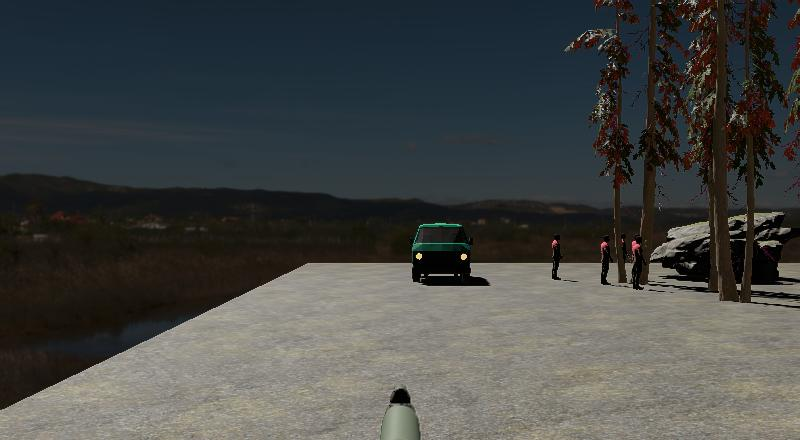Human: (629, 233, 645, 291), (599, 233, 613, 286), (550, 231, 564, 281), (617, 231, 629, 282)
car: (411, 221, 473, 286)
